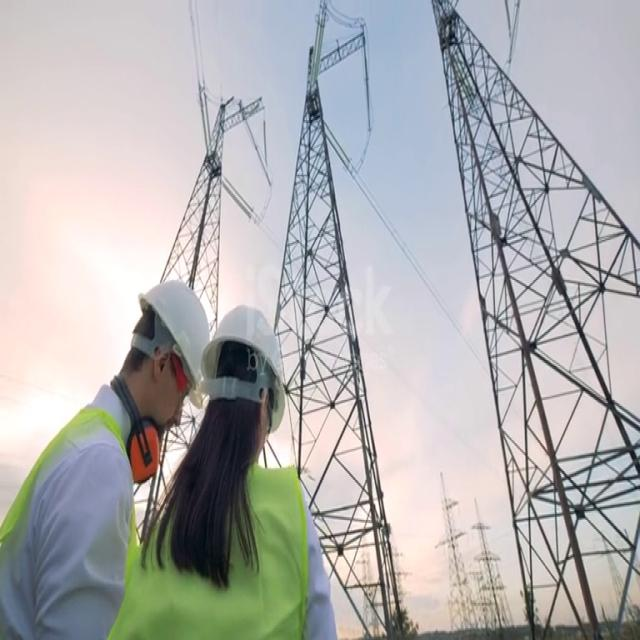capacete: (204, 294, 298, 441), (129, 271, 216, 412)
